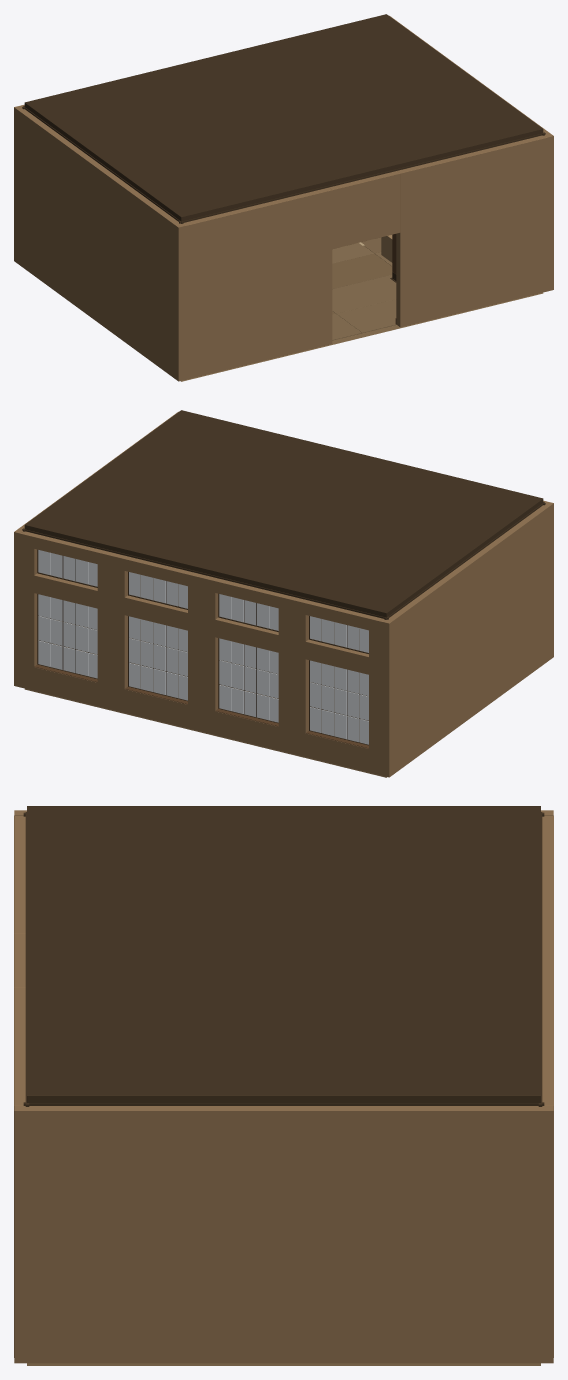
File: gallery.glb
3 views of the same model, one above another, from view 1: azimuth 30°, elevation 25°; view 2: azimuth 150°, elevation 25°; view 3: azimuth 270°, elevation 25° (orthographic). The views are drawn at different scales.
Visible parts, largest first — view 1: Gallery; view 2: Gallery; view 3: Gallery.
Part boxes in pixels (<box>): Gallery: <box>14,14,553,381</box>; Gallery: <box>14,410,553,777</box>; Gallery: <box>14,806,553,1365</box>.
Bounding box in the file's own units: 16.59 × 6.95 × 12.6.
